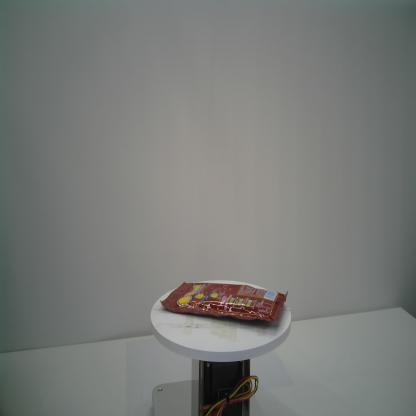Candy: (159, 282, 289, 322)
